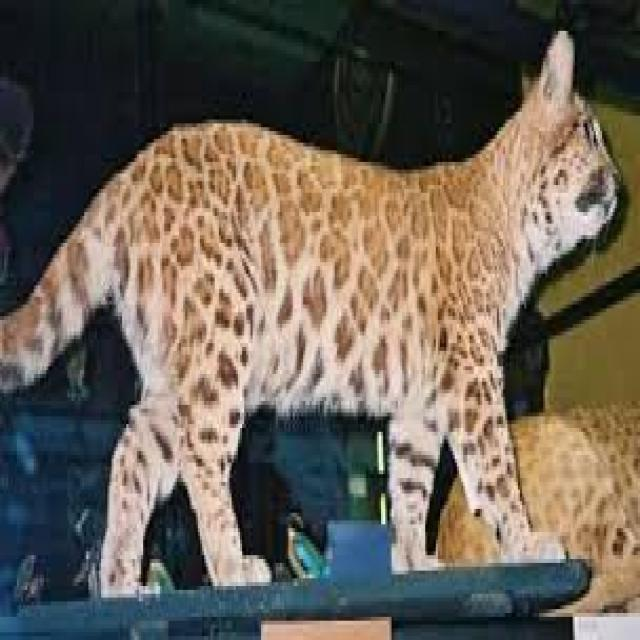Jaguar: (23, 23, 617, 571)
